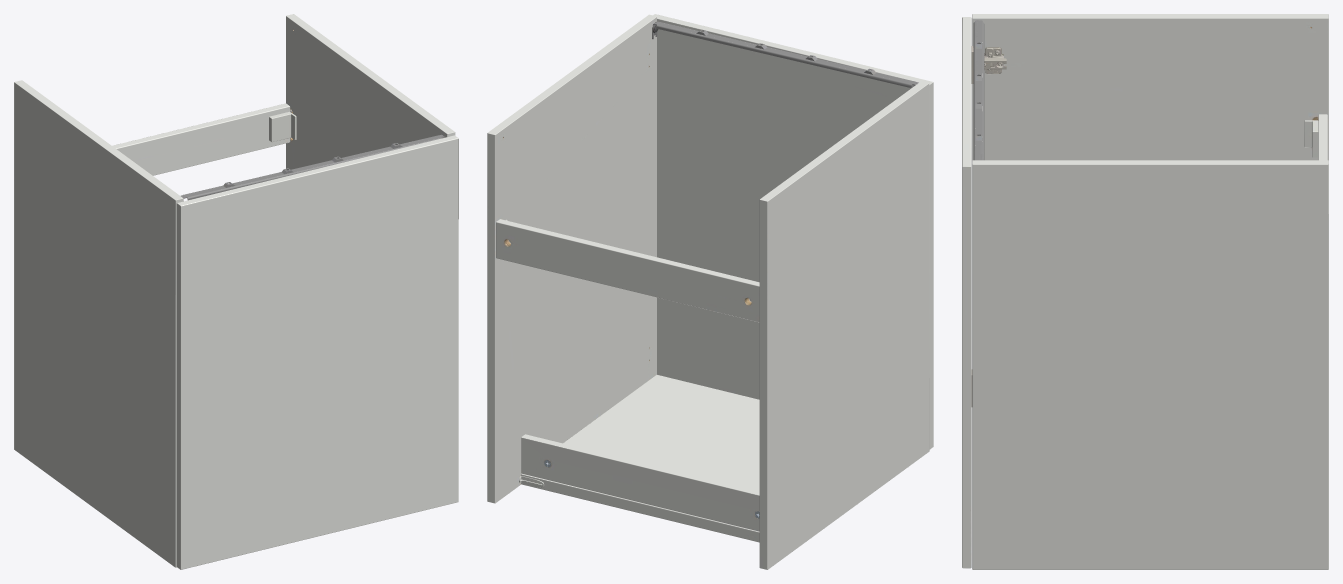
Rendered from enhet_szafka_pod_zlew_z_drzwiami_00623032.glb.
The picture shows the model from 3 angles, left to right: view 1: azimuth 30°, elevation 25°; view 2: azimuth 150°, elevation 25°; view 3: azimuth 270°, elevation 25°; orthographic projection. The views are drawn at different scales.
Visible parts, largest first — view 1: enhet_szafka_pod_zlew_z_drzwiami_00623032; view 2: enhet_szafka_pod_zlew_z_drzwiami_00623032; view 3: enhet_szafka_pod_zlew_z_drzwiami_00623032.
Boxes of the visible parts, box(x1,y1,x2,y2) form: enhet_szafka_pod_zlew_z_drzwiami_00623032: box(14, 14, 458, 569); enhet_szafka_pod_zlew_z_drzwiami_00623032: box(487, 14, 933, 569); enhet_szafka_pod_zlew_z_drzwiami_00623032: box(962, 14, 1328, 569).
Bounding box in the file's own units: 0.6 × 0.7548 × 0.6174.
1 material, 1 textured.
